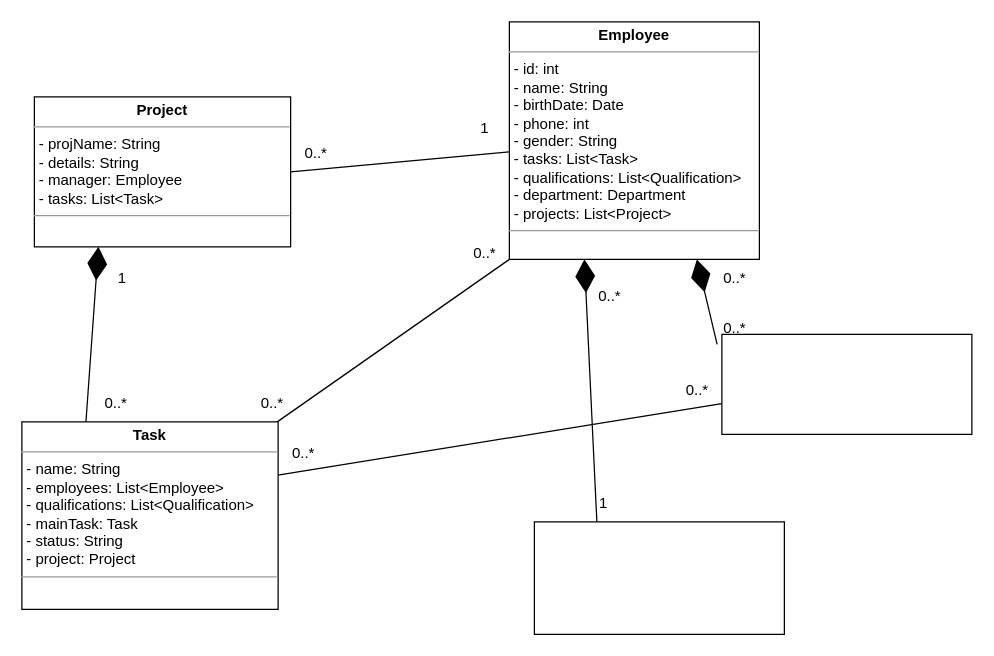
Some shapes in this 994 by 656 pixel diagram are drawn without their labels. The shapes that lost their labels are listed below. From the top down, each one's box as (x1, y1, x2, y2) in pixels, then its label:
(721, 333, 972, 434): Qualification - qualName: String
(533, 521, 784, 634): Department - depName: String - employees: List<Employee>
